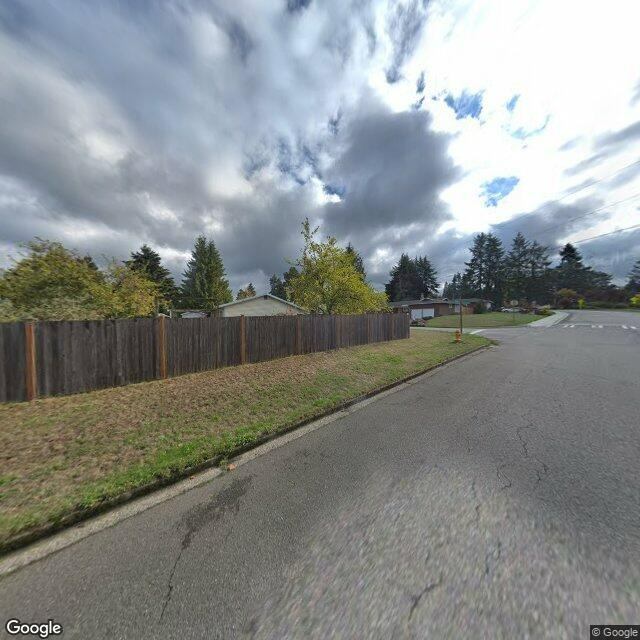hydrant: (450, 326, 464, 345)
